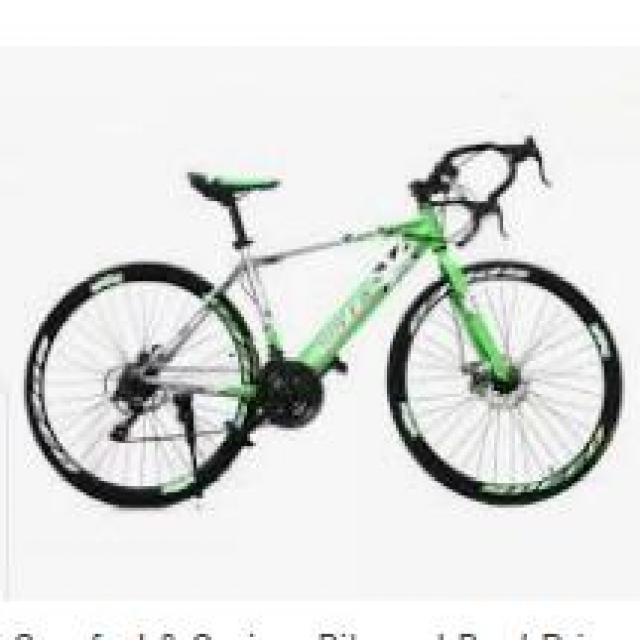bicycle: (43, 146, 633, 537)
